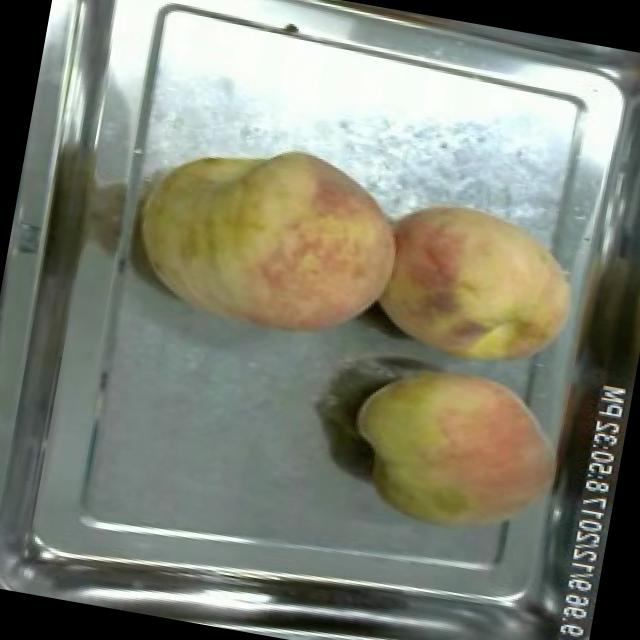Fruit: (117, 116, 421, 360), (330, 340, 580, 554), (358, 182, 602, 388)
